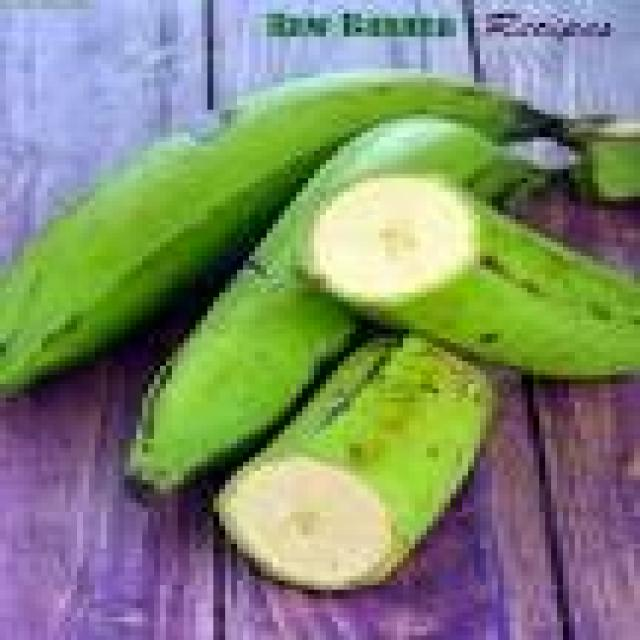banana: (0, 74, 557, 388), (131, 119, 539, 493), (220, 339, 491, 589), (309, 174, 639, 379)
